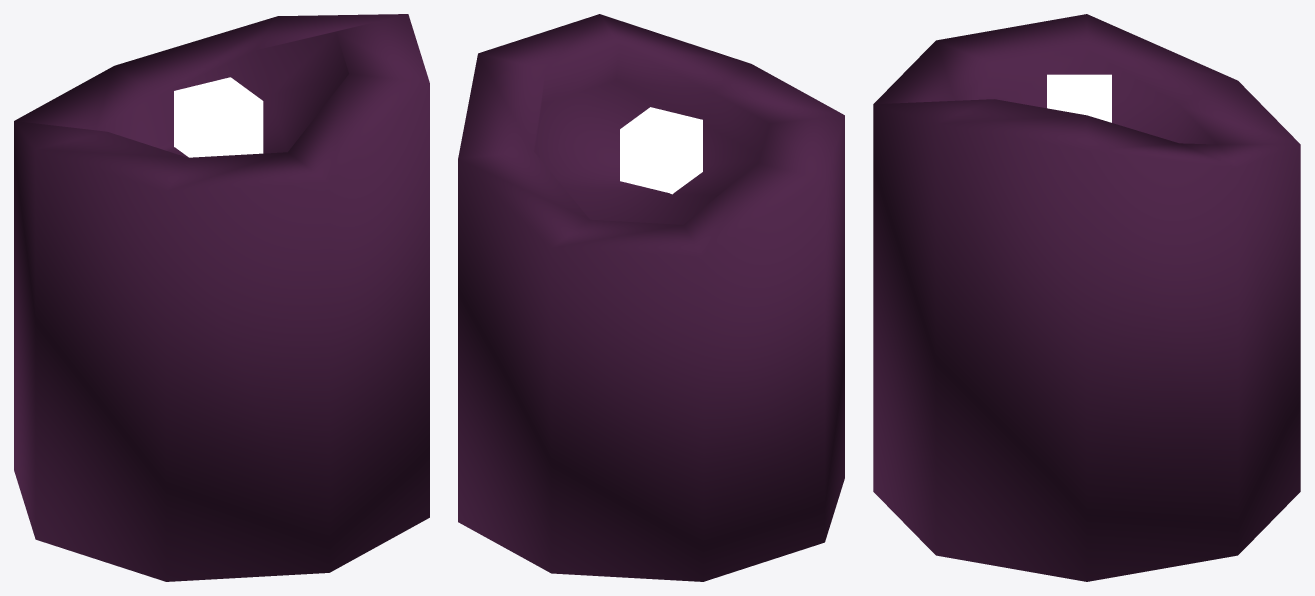
The model's file is candle_3d_fbx.fbx.
3 renders of one model, left to right at view 1: azimuth 30°, elevation 25°; view 2: azimuth 150°, elevation 25°; view 3: azimuth 270°, elevation 25°, orthographic. The views are drawn at different scales.
Visible parts, largest first — view 1: Cylinder, Cube; view 2: Cylinder, Cube; view 3: Cylinder, Cube.
Boxes of the visible parts, x1,y1,x2,y2 form: Cylinder: [14, 14, 429, 581]; Cube: [174, 77, 263, 157]; Cylinder: [458, 14, 844, 581]; Cube: [620, 107, 702, 194]; Cylinder: [873, 14, 1300, 581]; Cube: [1047, 74, 1111, 122].
Bounding box in the file's own units: 49.85 × 55.54 × 49.85.
